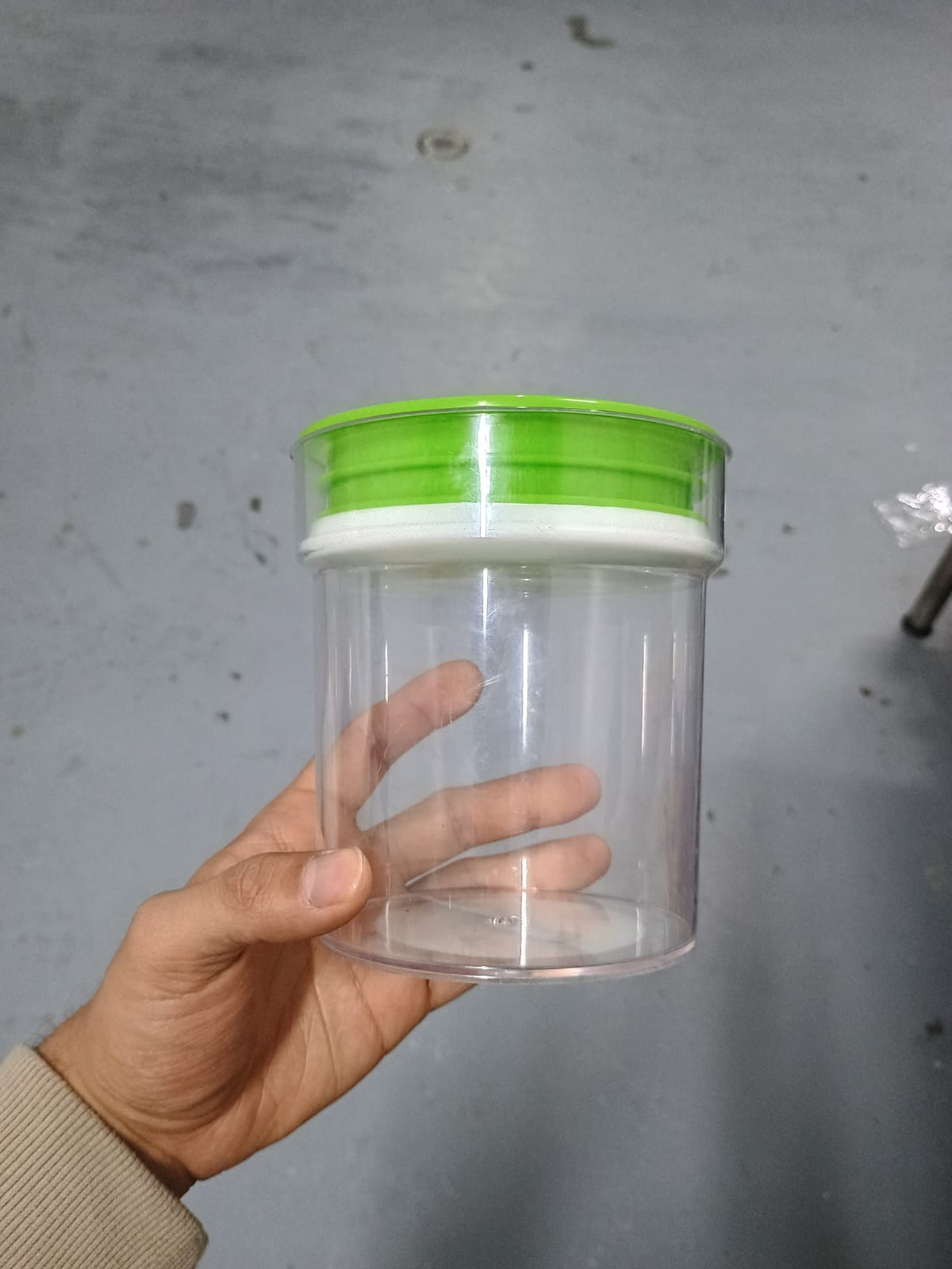Plastico: (290, 395, 731, 984)
